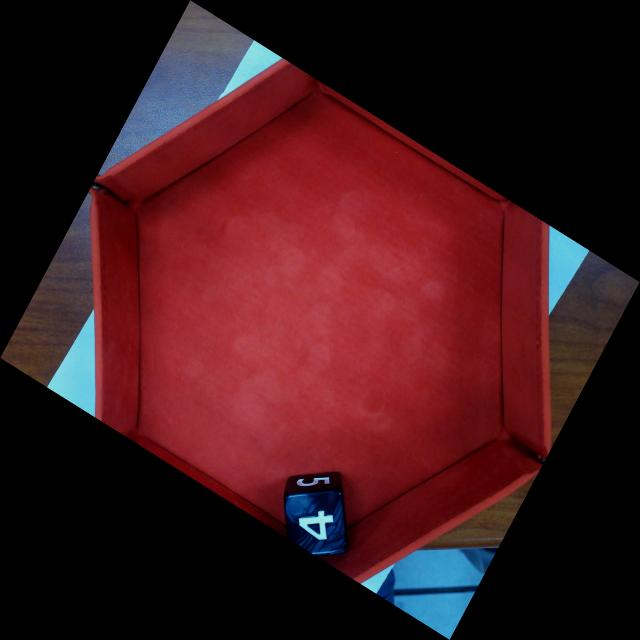dice: (281, 489, 349, 558)
